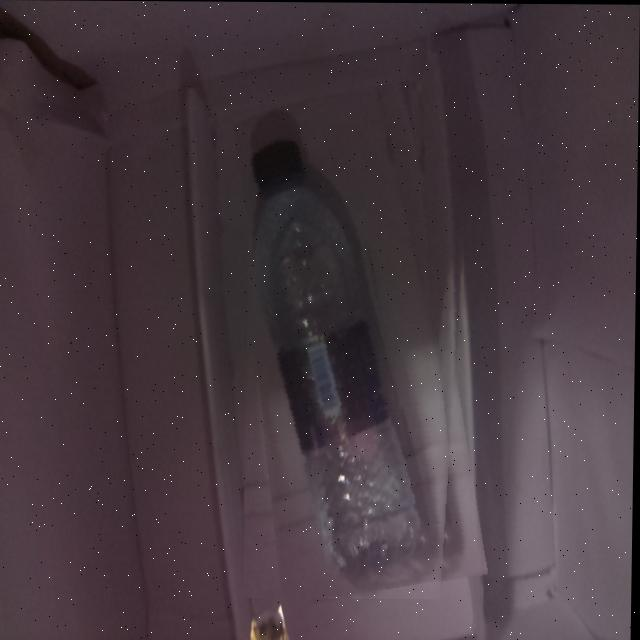plasticbottle: (245, 84, 474, 599)
plasticbottlecap: (277, 120, 350, 183)
